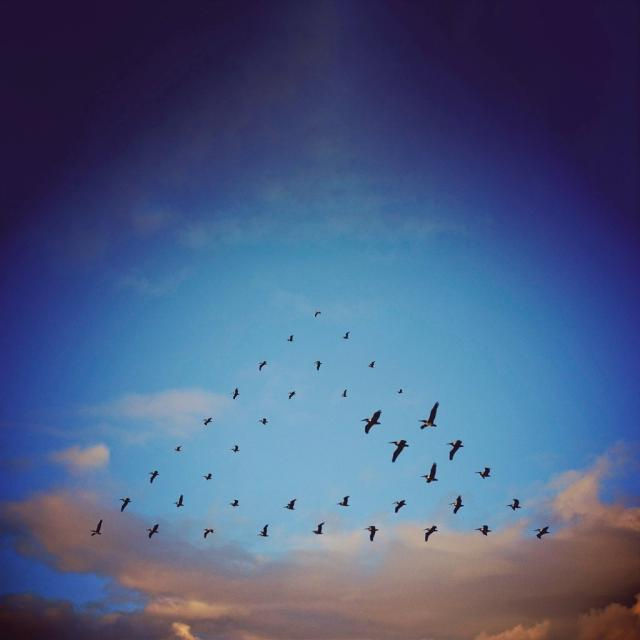bird: (420, 404, 440, 432), (363, 410, 383, 434), (390, 438, 409, 463), (421, 461, 439, 484), (448, 438, 465, 461), (450, 495, 464, 517), (421, 524, 438, 542), (534, 525, 552, 540), (90, 519, 104, 538), (476, 466, 492, 482), (366, 524, 380, 542), (148, 522, 162, 540), (394, 499, 408, 516), (507, 498, 522, 513), (258, 523, 271, 539), (201, 525, 215, 539), (120, 498, 132, 514), (312, 521, 324, 537), (173, 495, 185, 511), (477, 523, 491, 536), (338, 496, 351, 510), (149, 471, 161, 486), (286, 499, 298, 513), (229, 499, 240, 511), (231, 389, 241, 402), (312, 360, 322, 373), (287, 391, 298, 402), (259, 361, 269, 373), (203, 472, 213, 483), (367, 360, 377, 371), (339, 390, 349, 401), (287, 334, 297, 345), (231, 444, 240, 456), (172, 445, 182, 455), (202, 416, 212, 426), (259, 416, 269, 426), (341, 332, 350, 342), (312, 310, 322, 319)
